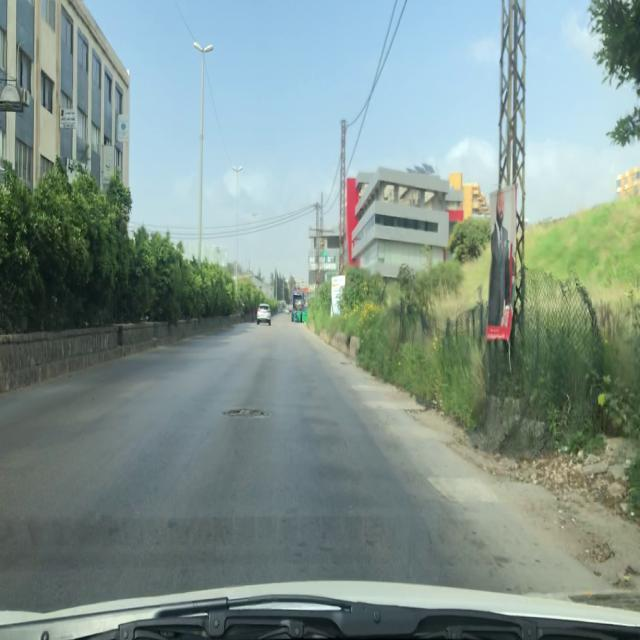Buraco: (220, 407, 273, 419)
